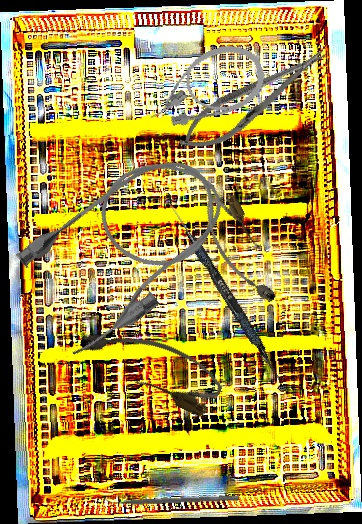Cannula: (3, 132, 251, 365), (74, 308, 229, 421), (136, 36, 273, 138), (197, 188, 284, 313)
Needle Holder: (170, 36, 336, 164)
Spatula Surgical: (158, 192, 290, 387), (103, 489, 240, 508)
